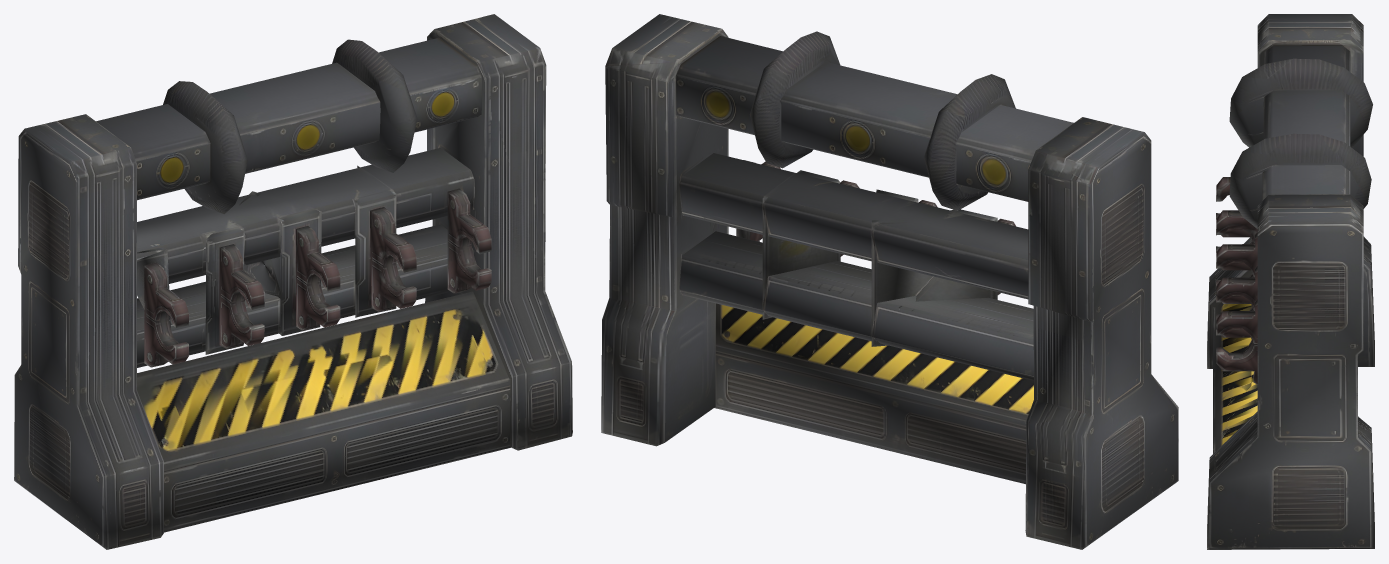
File: weapon_rack.glb
3 renders of one model, left to right at view 1: azimuth 30°, elevation 25°; view 2: azimuth 150°, elevation 25°; view 3: azimuth 270°, elevation 25°, orthographic. The views are drawn at different scales.
Parts seen in each view (by area): view 1: weapon_rack; view 2: weapon_rack; view 3: weapon_rack.
Part boxes in pixels (bbox=[...]): weapon_rack: bbox=[14, 14, 572, 549]; weapon_rack: bbox=[601, 14, 1178, 549]; weapon_rack: bbox=[1207, 14, 1374, 549].
Bounding box in the file's own units: 3 × 2.37 × 1.02.
Materials: 1 (1 with a texture image).
